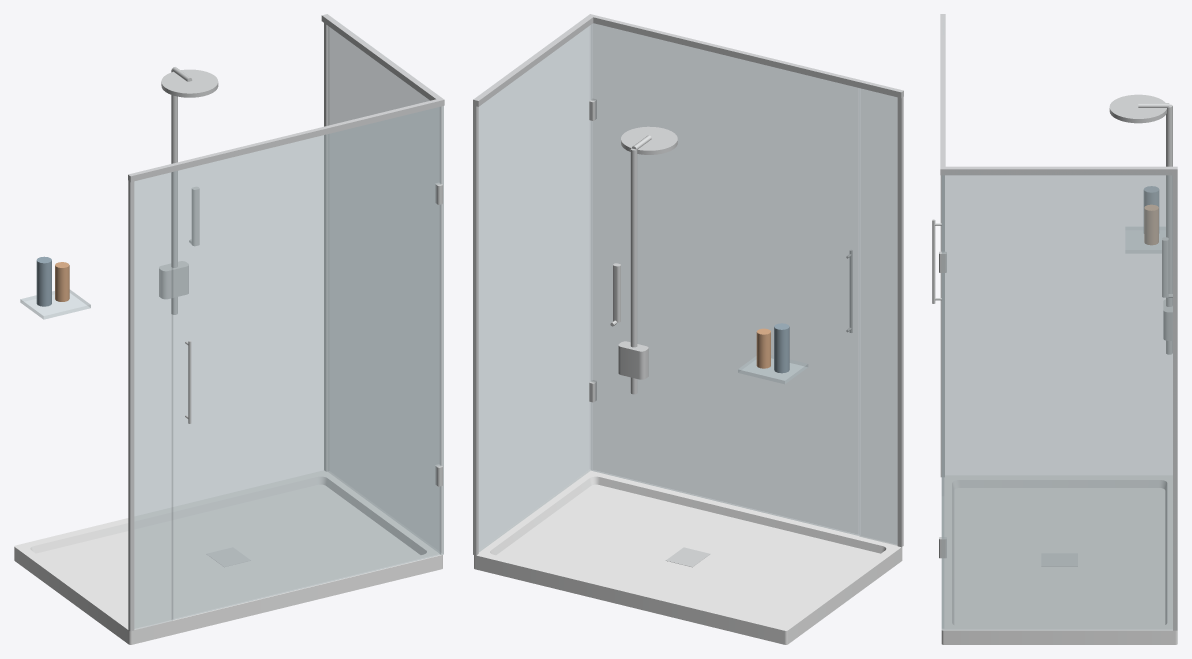
3 renders of one model, left to right at view 1: azimuth 30°, elevation 25°; view 2: azimuth 150°, elevation 25°; view 3: azimuth 270°, elevation 25°, orthographic.
Parts seen in each view (by area): view 1: Vách tắm đứng Rộng=1400; Sâu=900; view 2: Vách tắm đứng Rộng=1400; Sâu=900; view 3: Vách tắm đứng Rộng=1400; Sâu=900.
Boxes of the visible parts, left/top/right/bottom form: Vách tắm đứng Rộng=1400; Sâu=900: left=14, top=14, right=444, bottom=644; Vách tắm đứng Rộng=1400; Sâu=900: left=473, top=14, right=903, bottom=644; Vách tắm đứng Rộng=1400; Sâu=900: left=932, top=14, right=1177, bottom=644.
Bounding box in the file's own units: 1.4 × 2 × 0.936.
